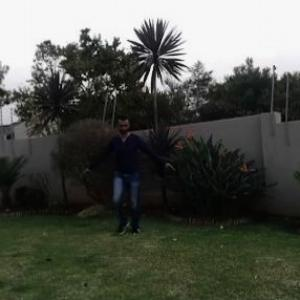land: (84, 108, 185, 236)
